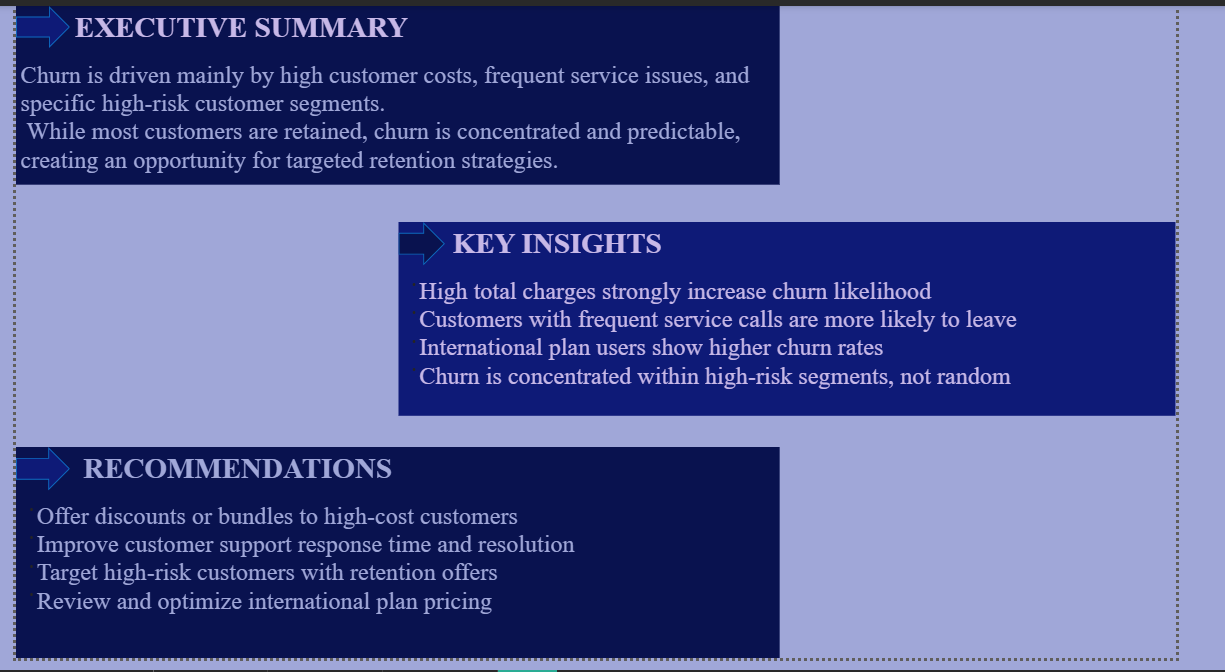

The page's visual inventory and layout, read from the dashboard file:
{"tool":"powerbi","page":{"name":"Page 3","canvas":[1280,720],"ordinal":2},"visuals":[{"type":"textbox","box":[0,0,843.1,197.1],"z":0},{"type":"shape","box":[0,0,59.6,46.4],"z":1},{"type":"textbox","box":[422.4,238.5,858.1,213.7],"z":2},{"type":"textbox","box":[0,487,843.1,233.6],"z":3},{"type":"shape","box":[422.4,238.5,51.4,48],"z":4},{"type":"shape","box":[0,487,59.6,48],"z":5}]}

Visuals, with their boxes in screenshot pixels (x1, y1, x2, y2), scaled from the page's 1280x720 canvas onto the 1225x672 screenshot:
textbox: BBox(0, 0, 807, 184)
shape: BBox(0, 0, 57, 43)
textbox: BBox(404, 223, 1224, 422)
textbox: BBox(0, 455, 807, 671)
shape: BBox(404, 223, 453, 267)
shape: BBox(0, 455, 57, 499)
